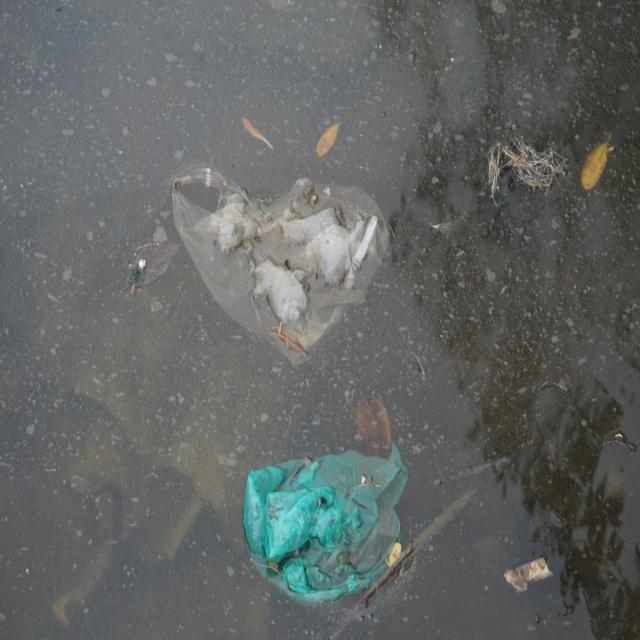Kantong Plastik: (157, 154, 394, 370), (231, 425, 410, 612)
